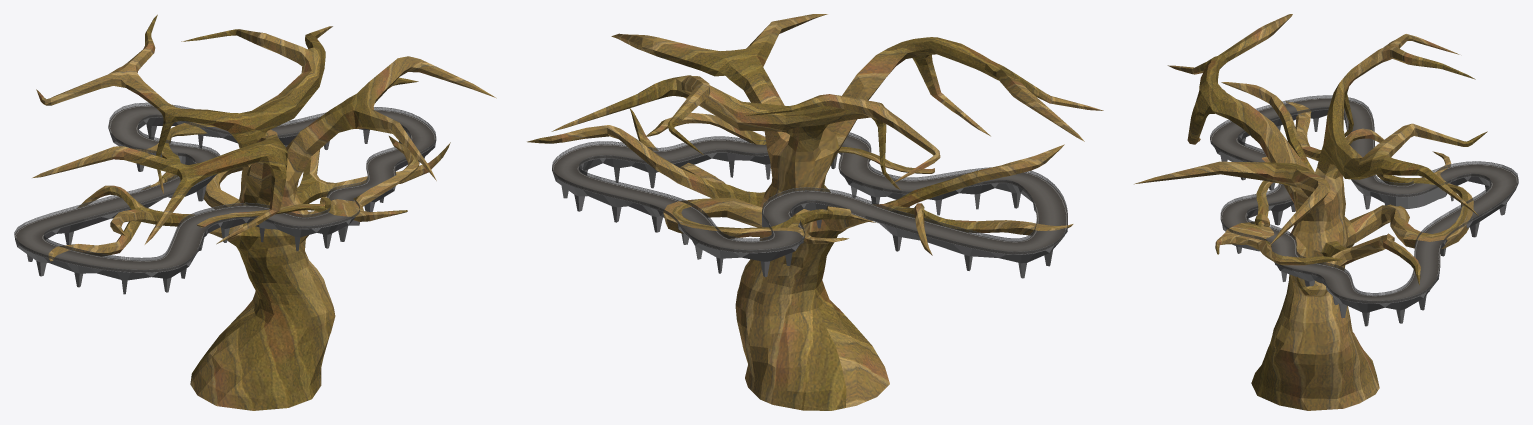
Rendered from testtrack3.glb.
3 renders of one model, left to right at view 1: azimuth 30°, elevation 25°; view 2: azimuth 150°, elevation 25°; view 3: azimuth 270°, elevation 25°, orthographic. The views are drawn at different scales.
Visible parts, largest first — view 1: Bettertree, Road.001, Road-colonly.001; view 2: Bettertree, Road.001, Road-colonly.001; view 3: Bettertree, Road.001, Road-colonly.001.
Boxes of the visible parts, <box> form: Bettertree: <box>32,14,496,410</box>; Road.001: <box>14,102,436,294</box>; Road-colonly.001: <box>14,103,435,272</box>; Bettertree: <box>527,14,1103,410</box>; Road.001: <box>552,132,1067,278</box>; Road-colonly.001: <box>552,133,1067,254</box>; Bettertree: <box>1134,14,1487,410</box>; Road.001: <box>1210,95,1518,326</box>; Road-colonly.001: <box>1210,96,1518,303</box>.
Size of what is drawn, in the model's own units: 386 by 257 by 297.
3 materials, 3 textured.
